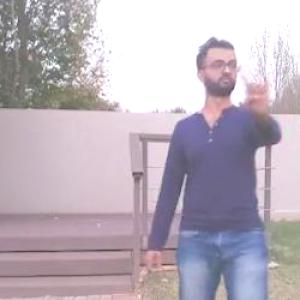takeoff-hand: (233, 62, 281, 120)
